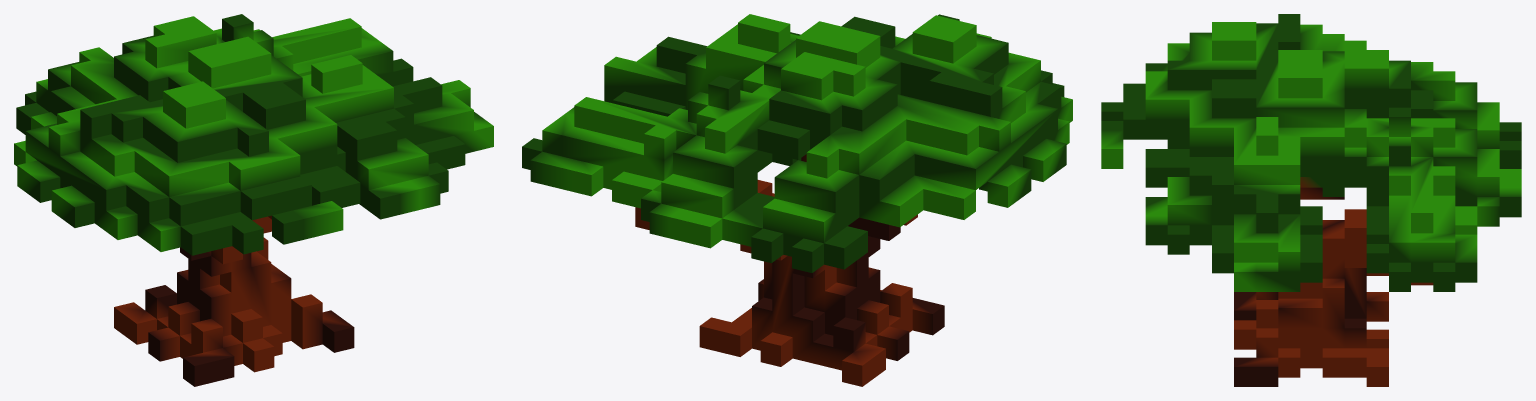
The model's file is Tree_12.fbx.
The picture shows the model from 3 angles, left to right: view 1: azimuth 30°, elevation 25°; view 2: azimuth 150°, elevation 25°; view 3: azimuth 270°, elevation 25°; orthographic projection. The views are drawn at different scales.
Visible parts, largest first — view 1: Tree_12; view 2: Tree_12; view 3: Tree_12.
Boxes of the visible parts, box(x1,y1,x2,y2) form: Tree_12: box(14, 14, 493, 386); Tree_12: box(522, 14, 1072, 386); Tree_12: box(1101, 14, 1521, 386).
Bounding box in the file's own units: 525 × 350 × 475.
